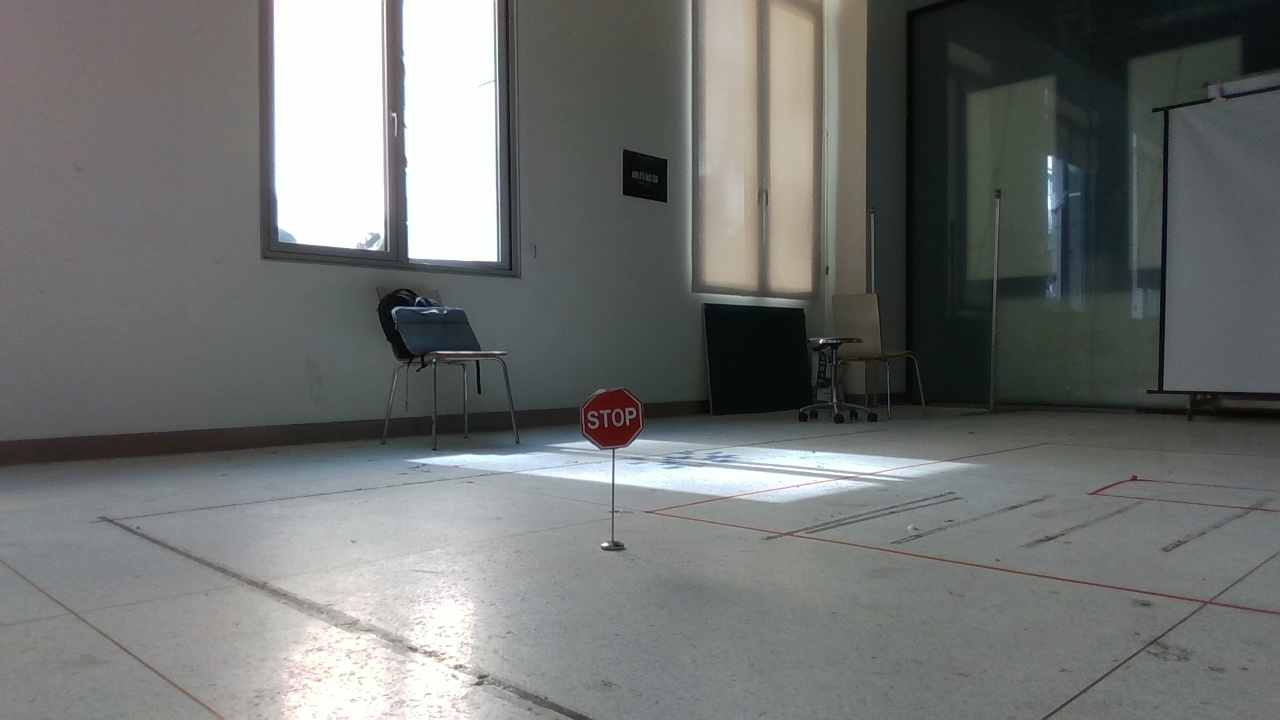stop_sign: (570, 375, 654, 457)
